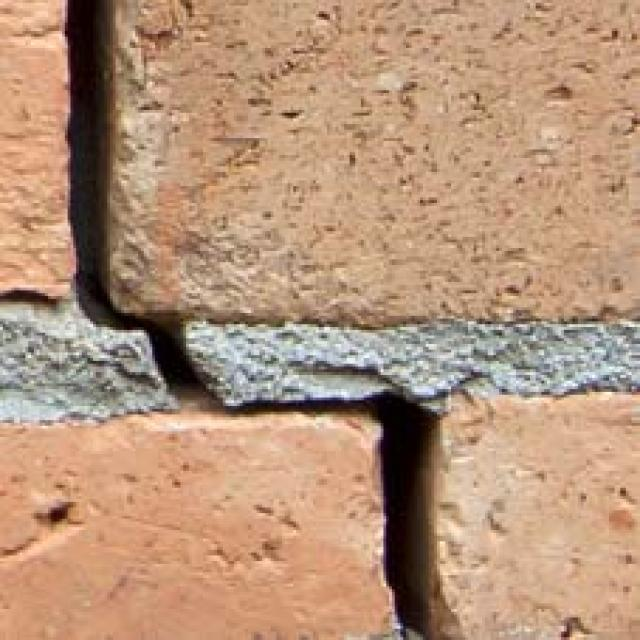Crack: (43, 0, 522, 640)
